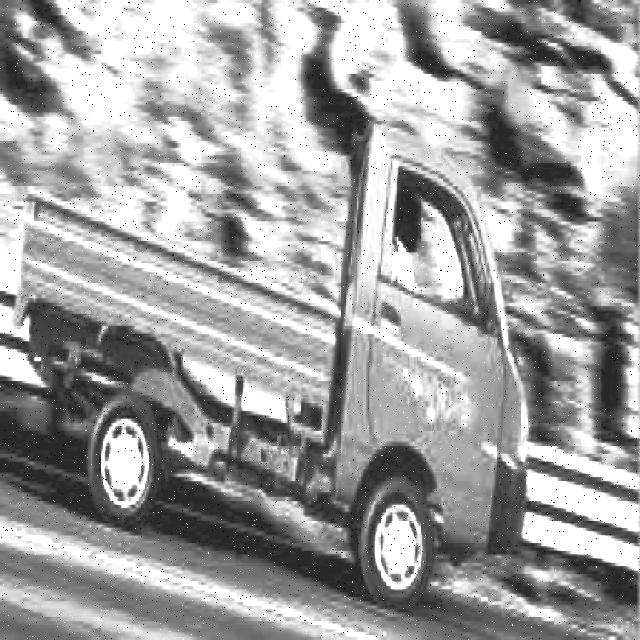LCV: (20, 105, 528, 597)
